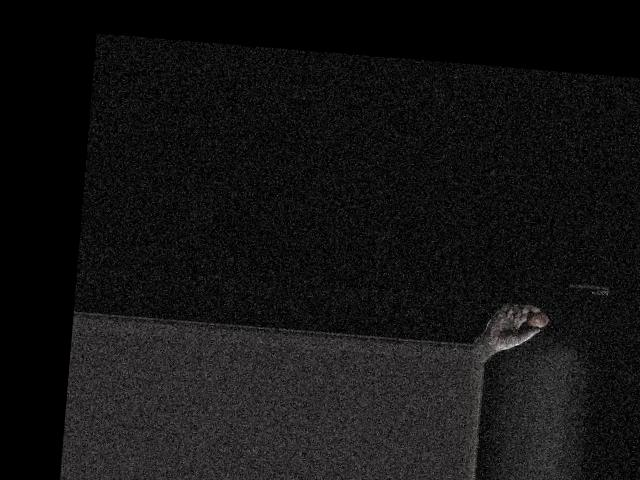egg: (524, 310, 548, 328)
